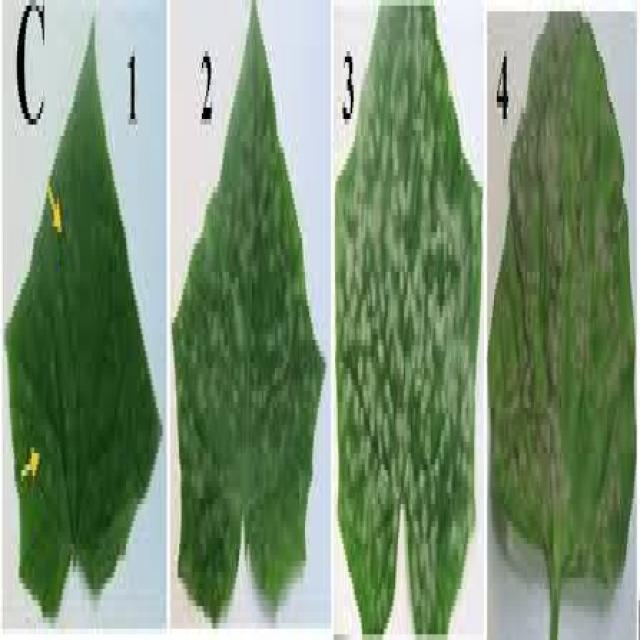powdery-mildew: (412, 73, 460, 640), (357, 37, 400, 533)
